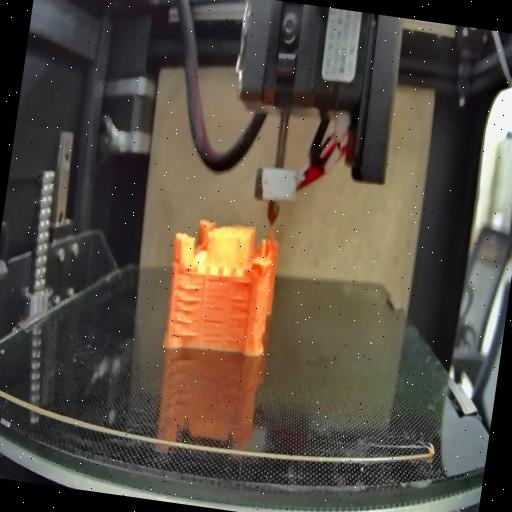cracks: (168, 279, 206, 343), (200, 312, 225, 346), (226, 314, 248, 348), (228, 294, 250, 311), (208, 278, 234, 288), (232, 277, 253, 288)
